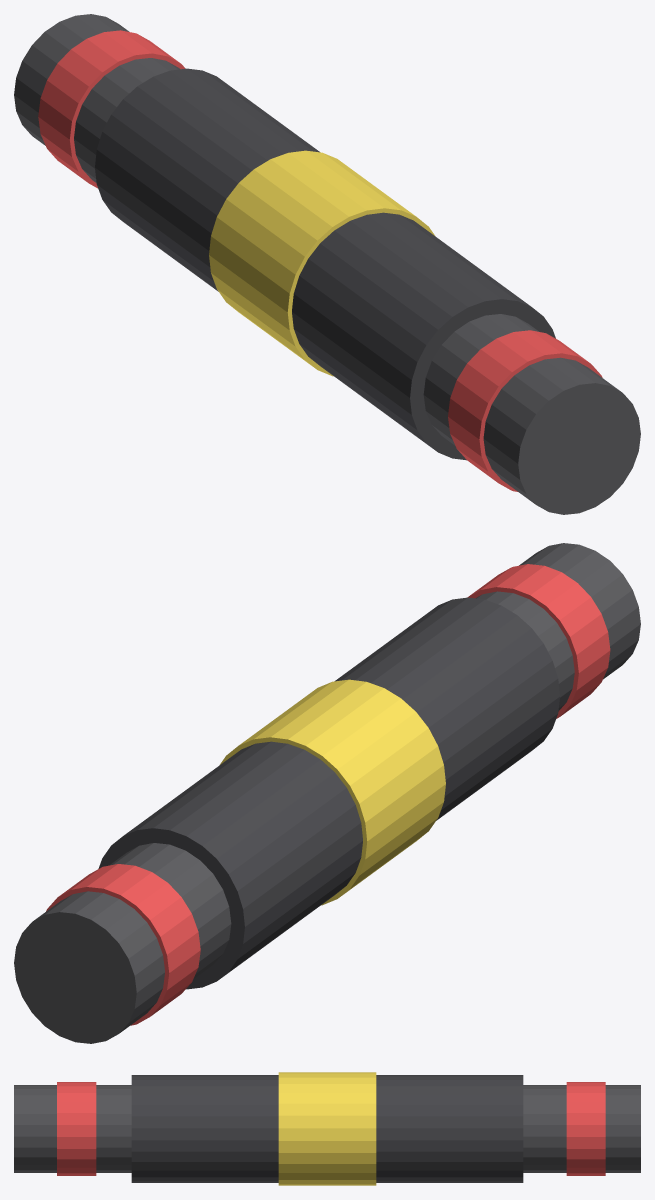
File: mc4-fuse.glb
3 renders of one model, top to bottom at view 1: azimuth 30°, elevation 25°; view 2: azimuth 150°, elevation 25°; view 3: azimuth 270°, elevation 25°, orthographic. The views are drawn at different scales.
Visible parts, largest first — view 1: fp_holder, fp_out_body, fp_amp, fp_in_body, fp_out_band, fp_in_band; view 2: fp_holder, fp_in_body, fp_amp, fp_out_body, fp_in_band, fp_out_band; view 3: fp_holder, fp_amp, fp_in_body, fp_out_body, fp_in_band, fp_out_band.
Part boxes in pixels (x1=…): fp_holder: x1=95, y1=68, x2=555, y2=460; fp_out_body: x1=423, y1=314, x2=640, y2=514; fp_amp: x1=209, y1=150, x2=434, y2=376; fp_in_body: x1=14, y1=14, x2=180, y2=182; fp_out_band: x1=448, y1=330, x2=602, y2=491; fp_in_band: x1=38, y1=30, x2=185, y2=188; fp_holder: x1=98, y1=597, x2=559, y2=989; fp_in_body: x1=14, y1=843, x2=231, y2=1043; fp_amp: x1=220, y1=679, x2=445, y2=905; fp_out_body: x1=476, y1=543, x2=640, y2=711; fp_in_band: x1=46, y1=864, x2=200, y2=1025; fp_out_band: x1=467, y1=564, x2=610, y2=718; fp_holder: x1=131, y1=1075, x2=523, y2=1182; fp_amp: x1=278, y1=1072, x2=376, y2=1185; fp_in_body: x1=523, y1=1085, x2=640, y2=1172; fp_out_body: x1=14, y1=1085, x2=131, y2=1172; fp_in_band: x1=566, y1=1082, x2=605, y2=1175; fp_out_band: x1=57, y1=1082, x2=96, y2=1175.
Bounding box in the file's own units: 0.0232 × 0.0232 × 0.128.
